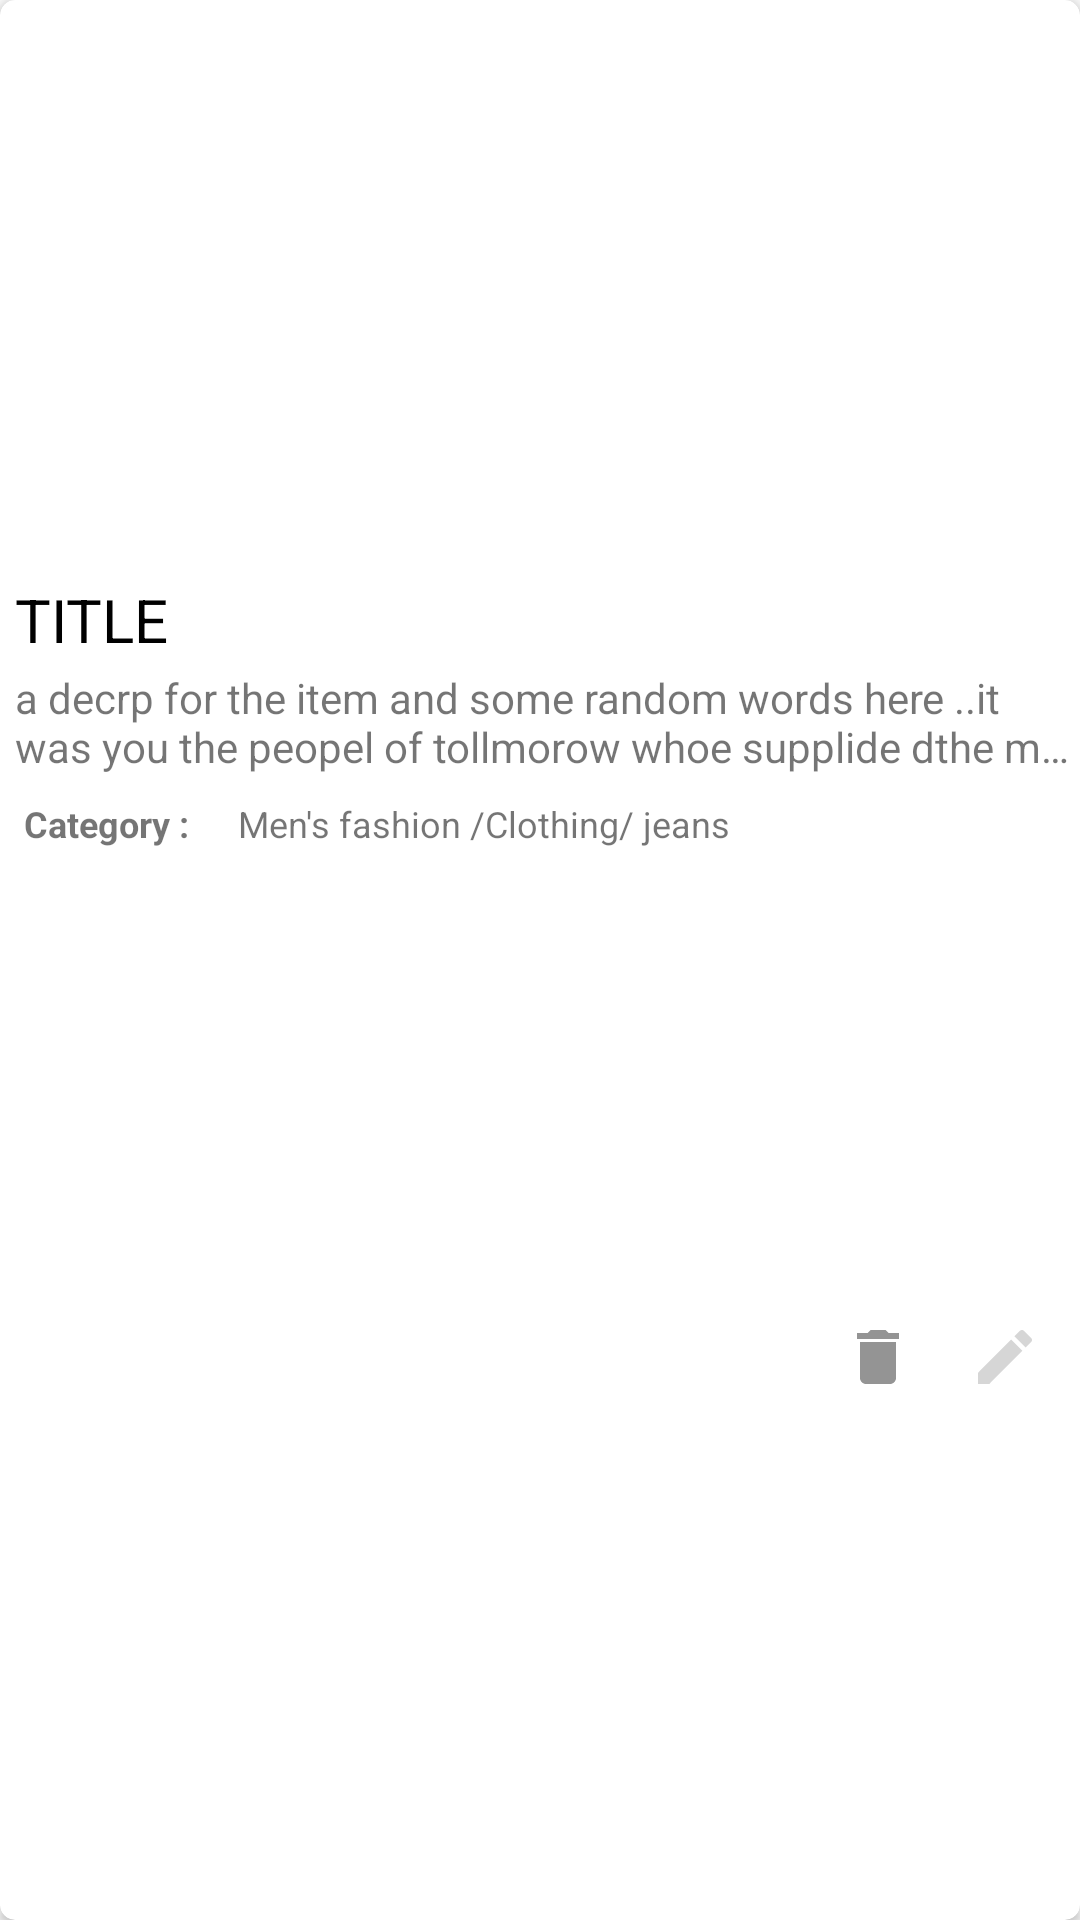

Named icons in this screenshot (1080px×1920px) and their centers, (x=x, y=y):
edit bt: (x=1005, y=1357)
